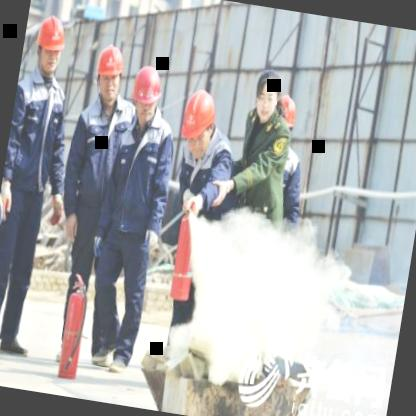head: (247, 67, 287, 125)
helmet: (174, 84, 223, 160), (29, 8, 70, 77), (88, 40, 129, 108), (126, 59, 166, 126), (268, 90, 300, 144)
